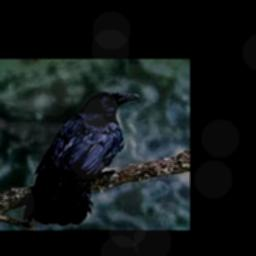Crow: (23, 91, 140, 226)
